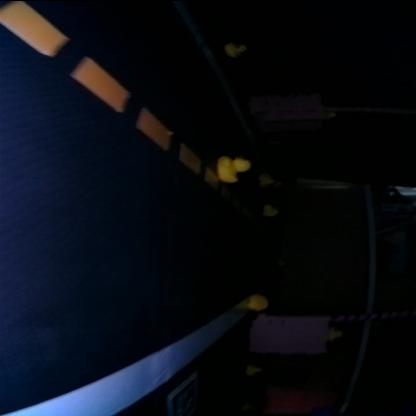Duckie: (218, 156, 250, 180), (247, 294, 270, 310), (227, 42, 248, 54), (330, 327, 343, 337), (262, 173, 274, 183), (248, 364, 262, 372)
QR code: (167, 374, 200, 412)
